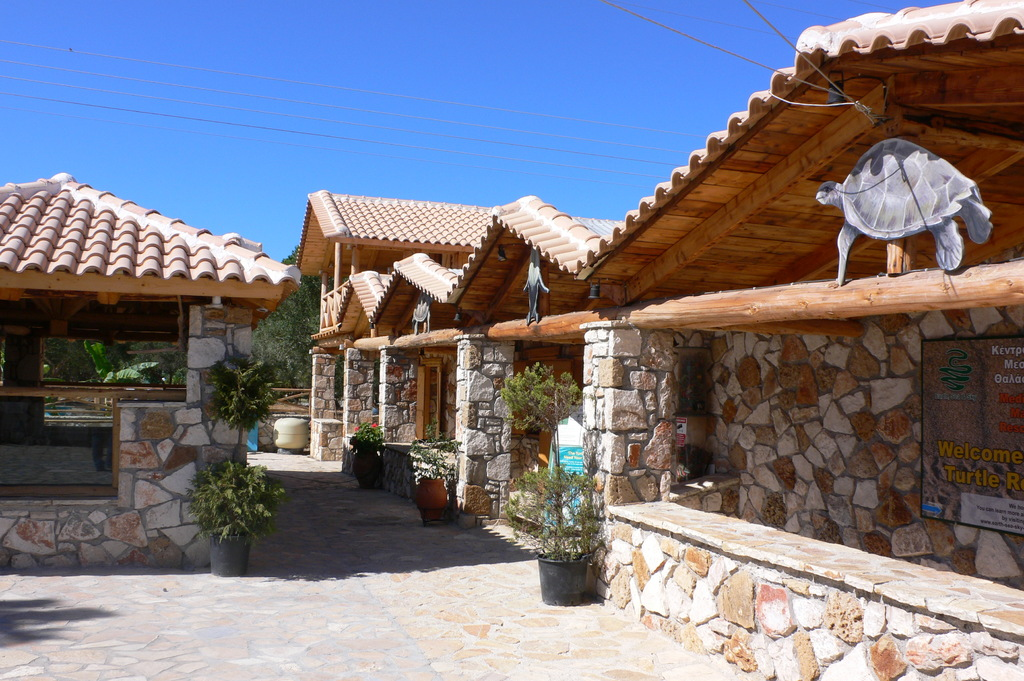Sea turtles: (814, 136, 991, 287)
